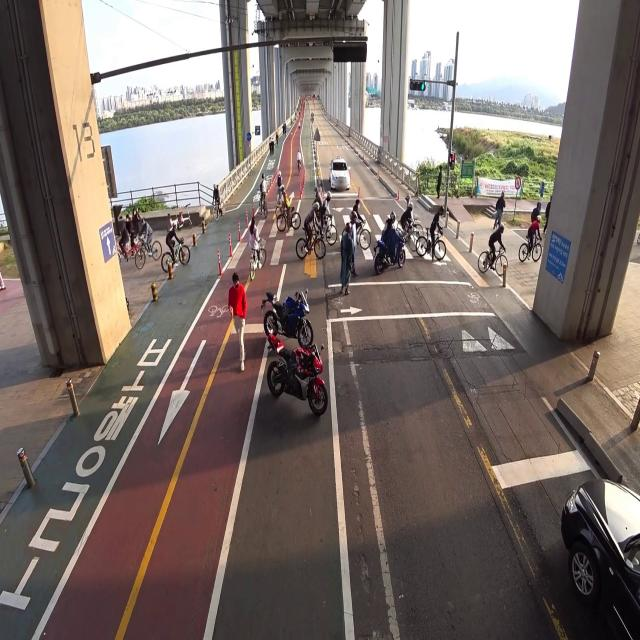Car: (555, 445, 640, 639), (327, 150, 352, 196)
Motorcycle: (373, 210, 405, 274)
